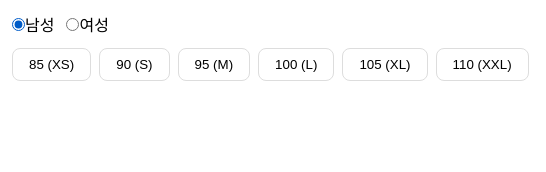
Scenario: Feature 03: SizeLabelSelector 컴포넌트 › 여성으로 전환하면 여성 사이즈가 표시된다
Click the radio button labelled "여성".
click(73, 24)  # box 66,18 -> 80,31
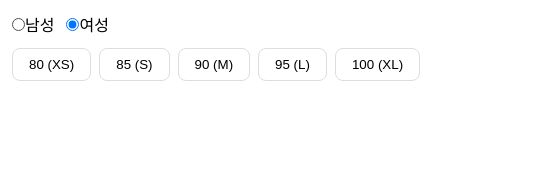
Check: the button "80 (XS)" is shown, box 12,48 -> 91,81
